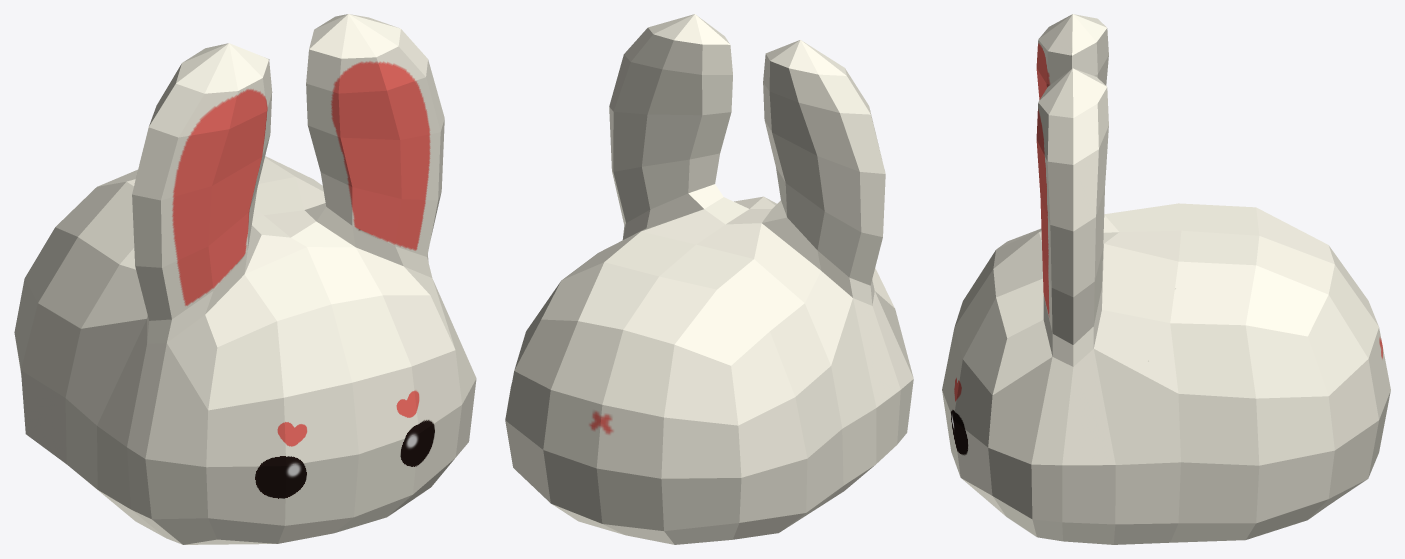
File: Rabbit_chocolate_white.fbx
3 views of the same model, side by side, from view 1: azimuth 30°, elevation 25°; view 2: azimuth 150°, elevation 25°; view 3: azimuth 270°, elevation 25° (orthographic). The views are drawn at different scales.
Parts seen in each view (by area): view 1: Roundcube.004; view 2: Roundcube.004; view 3: Roundcube.004.
Boxes of the visible parts, x1,y1,x2,y2 form: Roundcube.004: (14,14,476,544); Roundcube.004: (505,14,913,544); Roundcube.004: (942,14,1390,544).
Bounding box in the file's own units: 197 × 272 × 244.
1 material, 1 textured.
